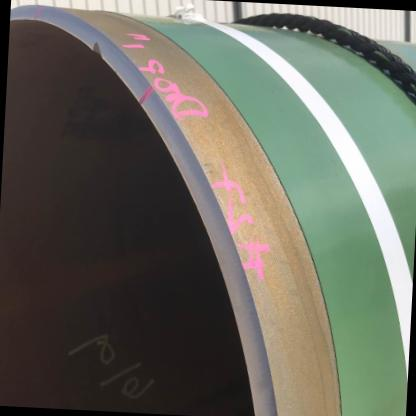Bevel: (76, 22, 111, 66)
